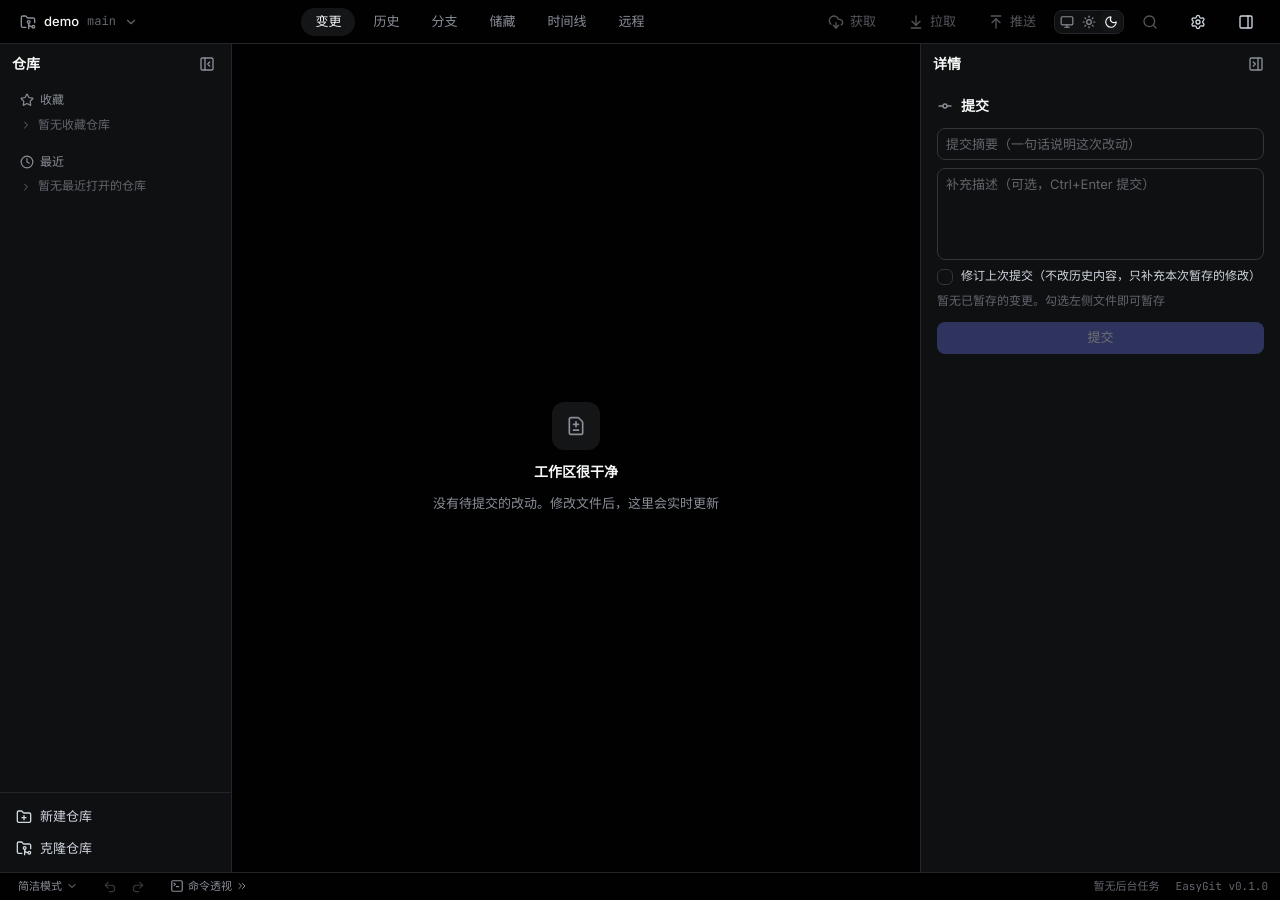
Test: AppShell with an active repository › collapses the repo sidebar to the icon rail
The width and height of the screenshot is (1280, 900).
Click the button with test id "sidebar-collapse". click: coordinates (207, 64)
box: [195,52,219,76]
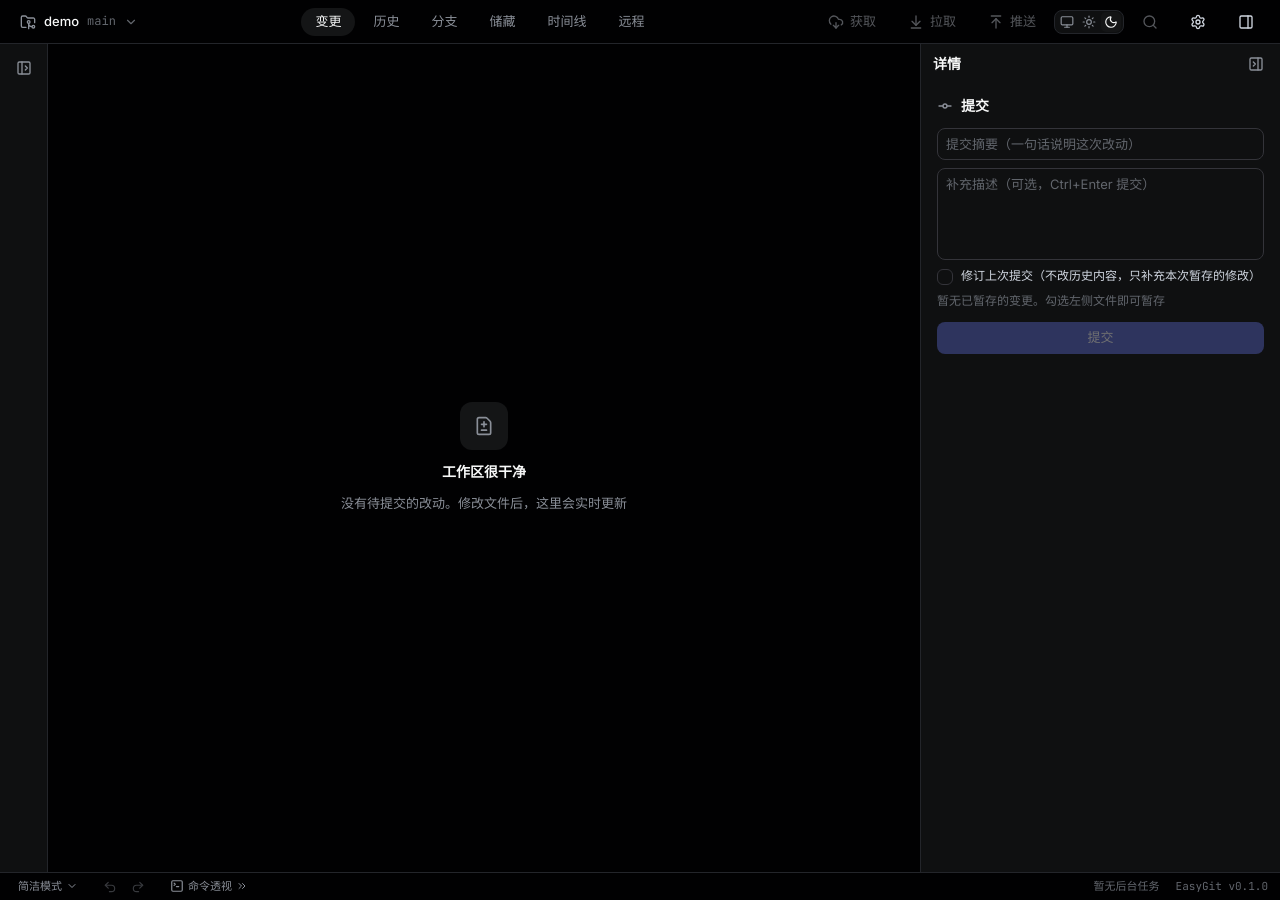
Expected: the button with test id "sidebar-expand" is shown
Expected: the button with test id "sidebar-collapse" is gone
Click the button with test id "sidebar-expand". click: coordinates (24, 68)
box: [8,52,40,84]
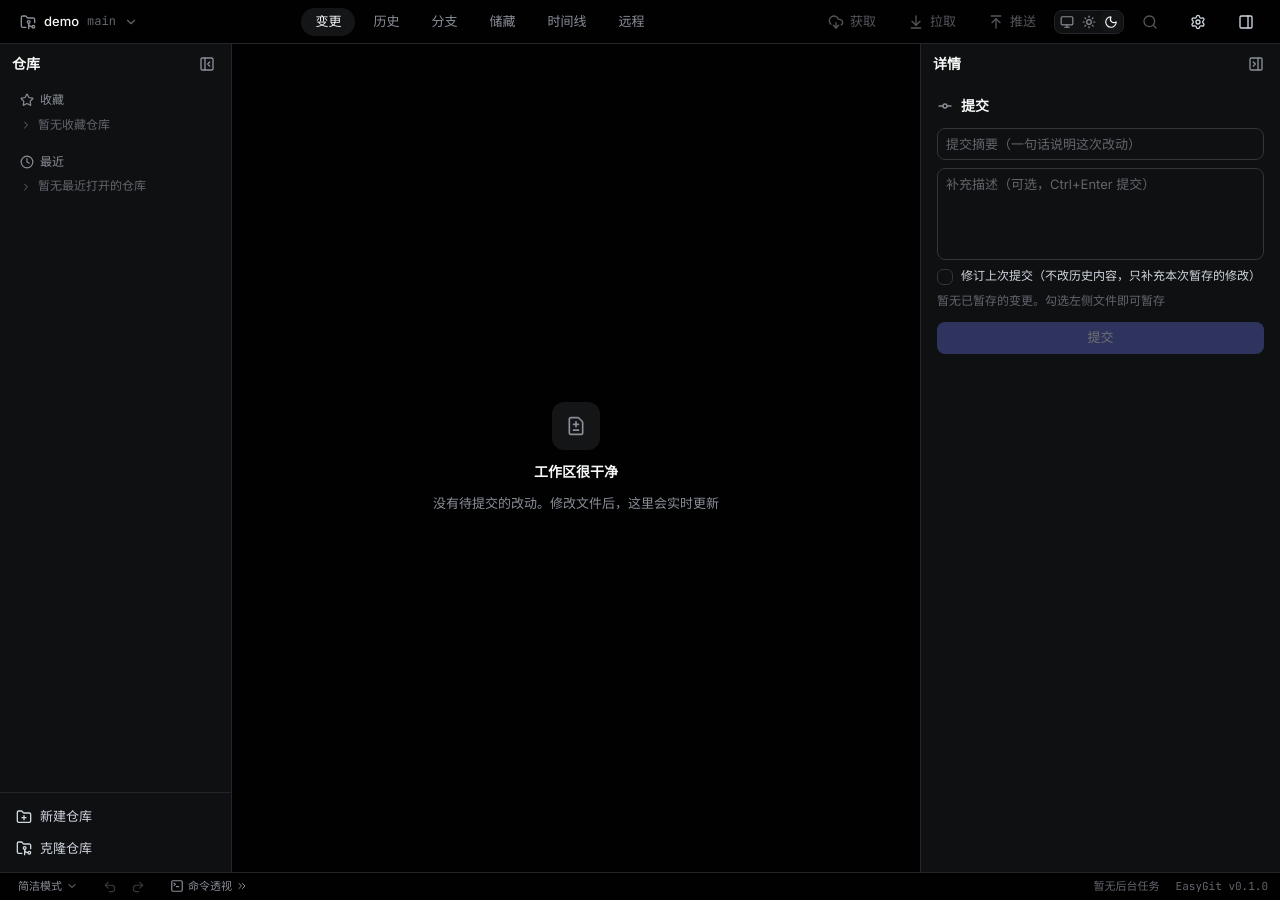
Expected: the button with test id "sidebar-collapse" is shown, [195,52,219,76]
